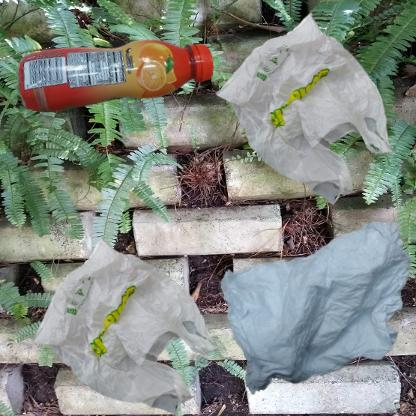bolsa: (10, 213, 243, 416), (213, 10, 397, 206)
botella: (10, 10, 239, 155)
papel: (213, 213, 416, 409)
